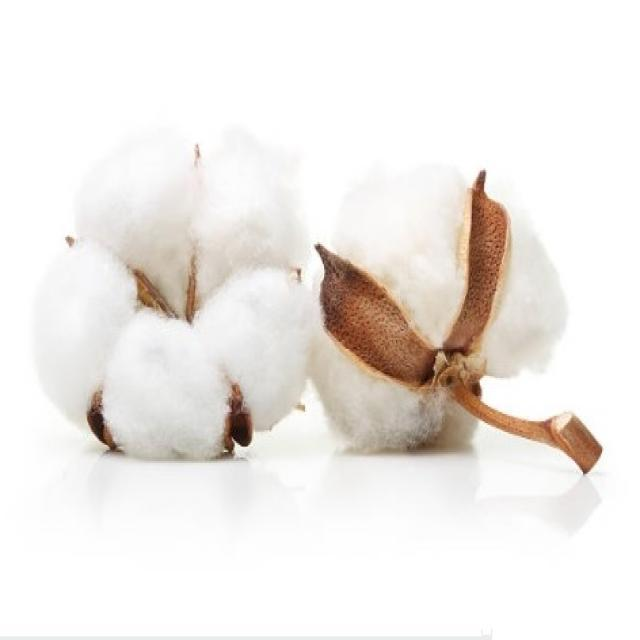Matured Cotton Boll: (25, 107, 318, 475), (294, 154, 573, 462)
